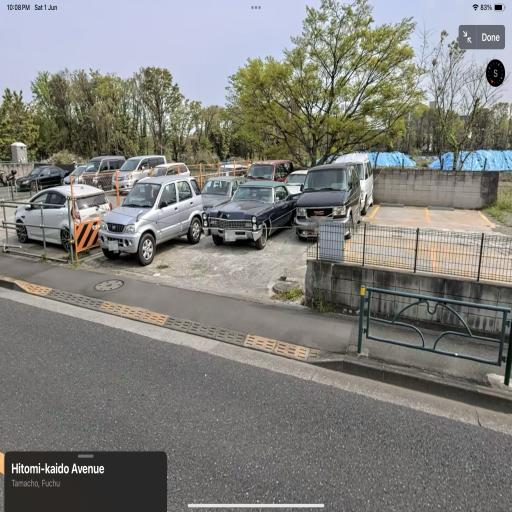Roads: (21, 263, 508, 485)
Trees: (197, 7, 468, 160), (49, 64, 194, 158)
